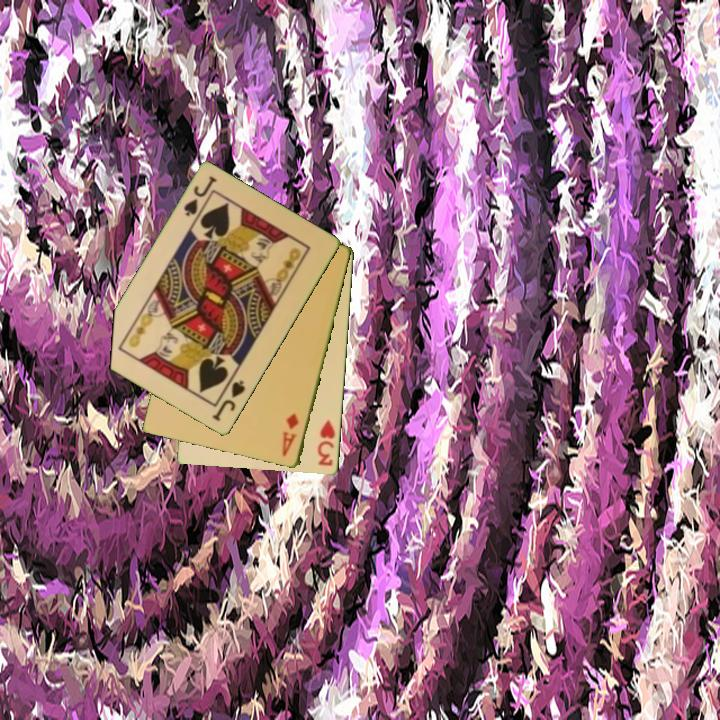3h: (314, 417, 338, 469)
Ad: (279, 410, 302, 460)
Js: (180, 173, 220, 220), (209, 377, 248, 424)
